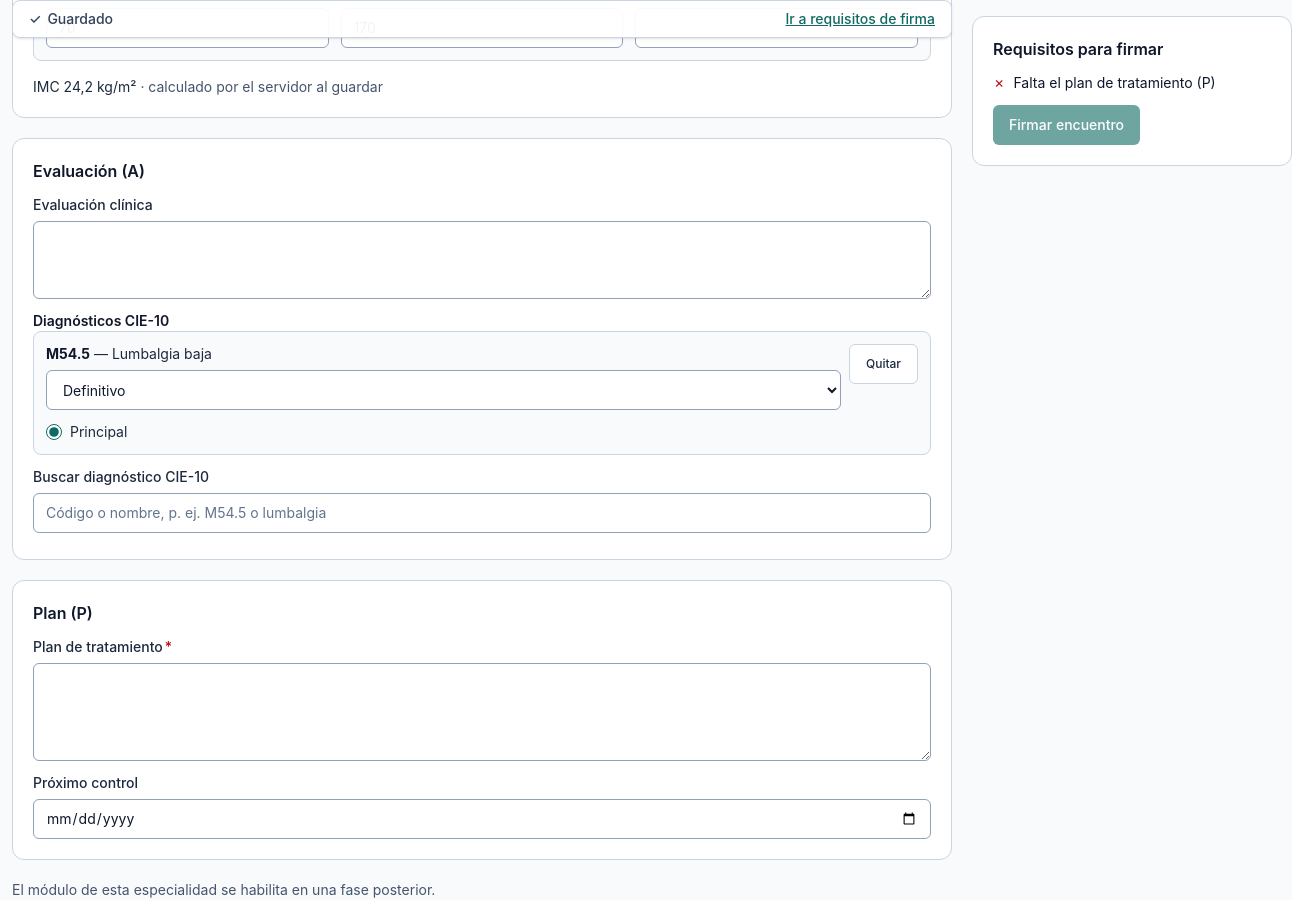
Scenario: EncounterWorkspace: checklist y firma › se refresca tras guardar: al cumplirse el último requisito se habilita Firmar
Later steps or results of the test are not shown.
(page scrolled)
Expected: the text "Falta el plan de tratamiento (P)" is shown, [1013,73,1216,93]
Expected: the button "Firmar encuentro" is disabled, [993,105,1140,145]
Type "Reposo" into the text box labelled "Plan de tratamiento*" at [482, 712], box [33,663,931,761]
Wait 1400 ms
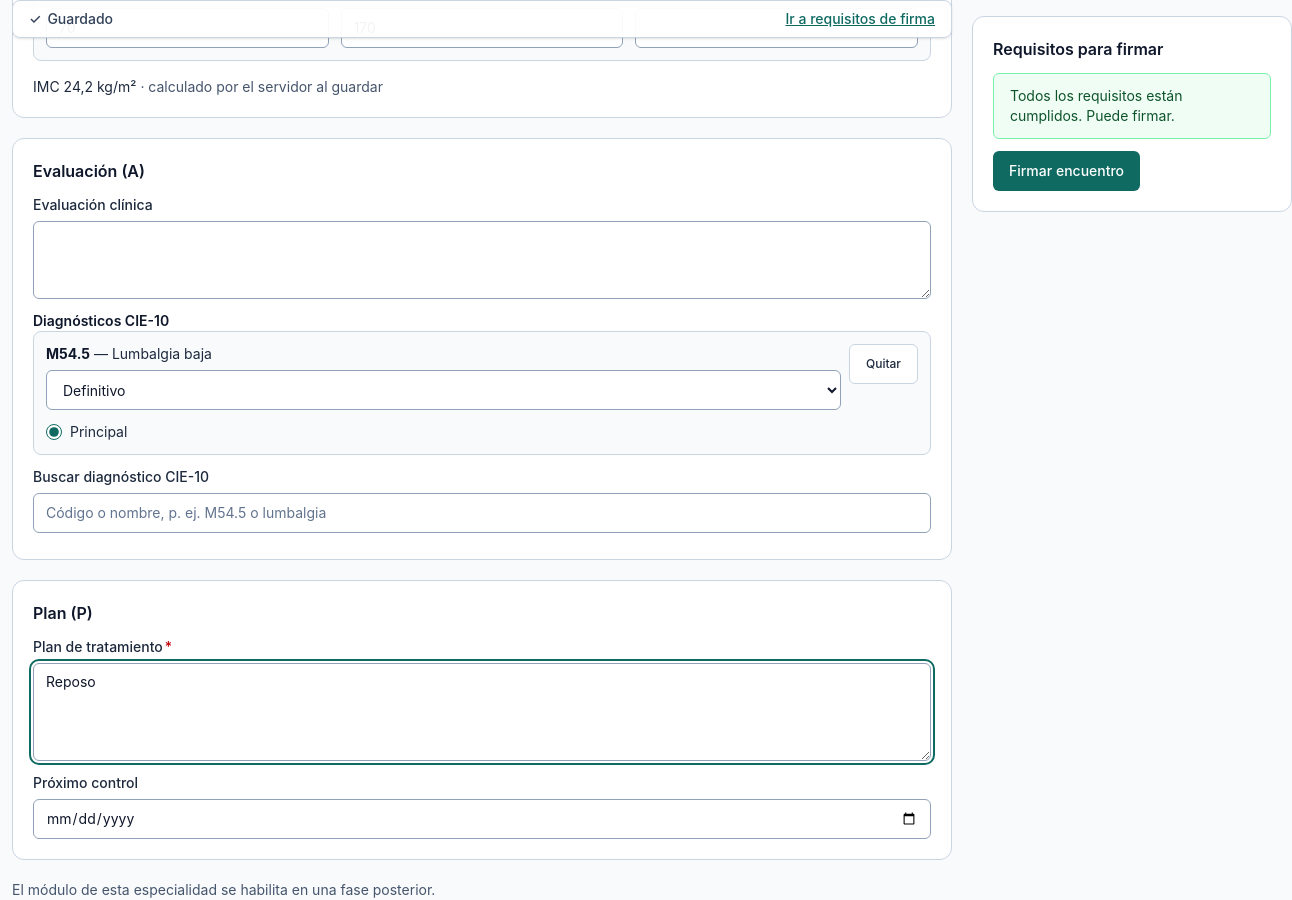
Now the text "Todos los requisitos están cumplidos. Puede firmar." is shown, box [1010,87,1182,124]
Now the button "Firmar encuentro" is enabled, box [993,151,1140,191]
